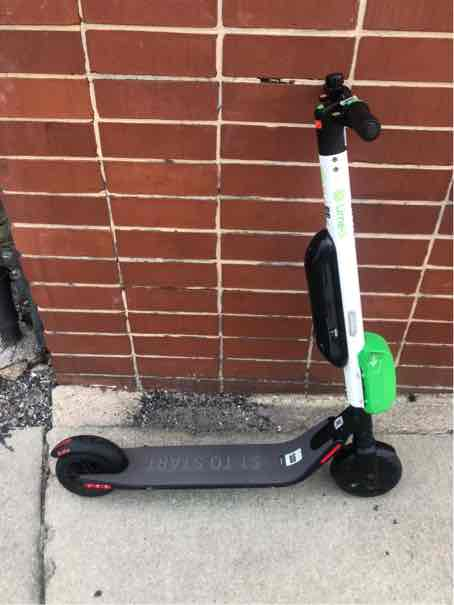scooter: (43, 58, 419, 520)
